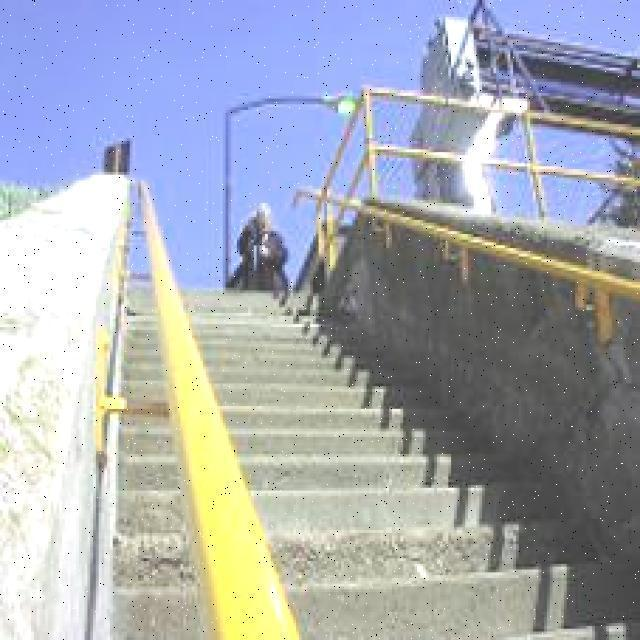Stairs: (119, 158, 623, 627)
